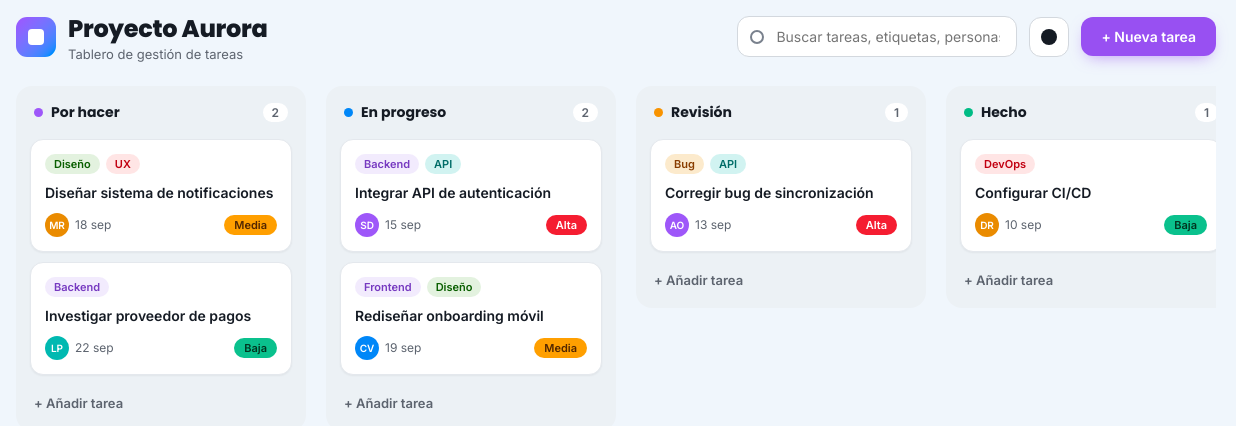
Test case: search filtering › filters cards per column, updates badges to filtered counts, and shows "Sin tareas" when a column empties
Type "backend" into the field with placeholder "Buscar tareas, etiquetas, personas..." at (877, 36), box [737,16,1017,57]
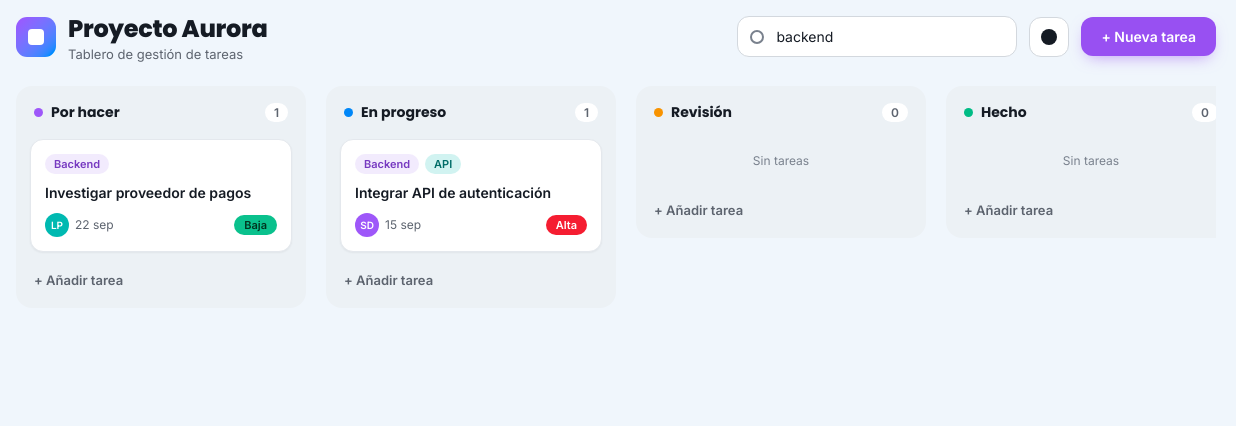
Result: the text "Diseñar sistema de notificaciones" is gone
Result: the text "Corregir bug de sincronización" is gone
Result: the text "Configurar CI/CD" is gone
